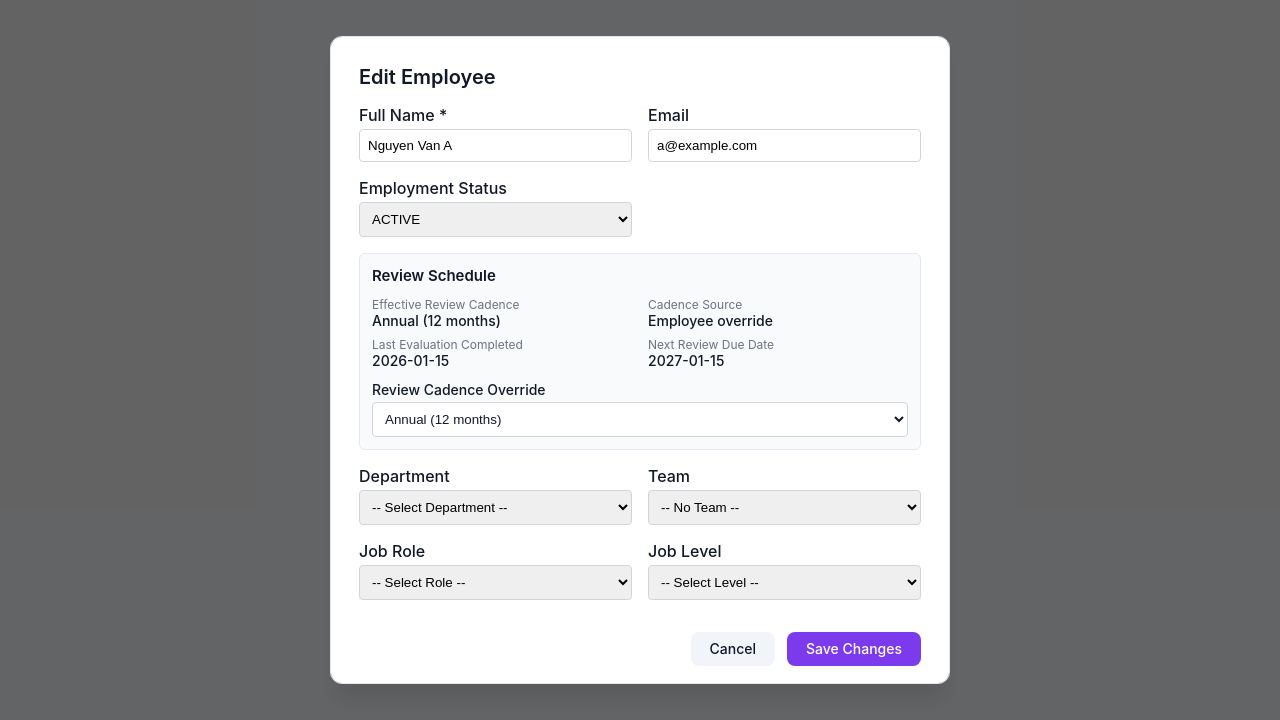
Employee review schedule (frontend) › TC64 job level change invalidates the affected keys and shows the new due date from the API without reload
This screenshot has width=1280, height=720.
Select "Senior" in the dropdown labelled "Job Level" at x=784, y=582, box [648,565,921,600]
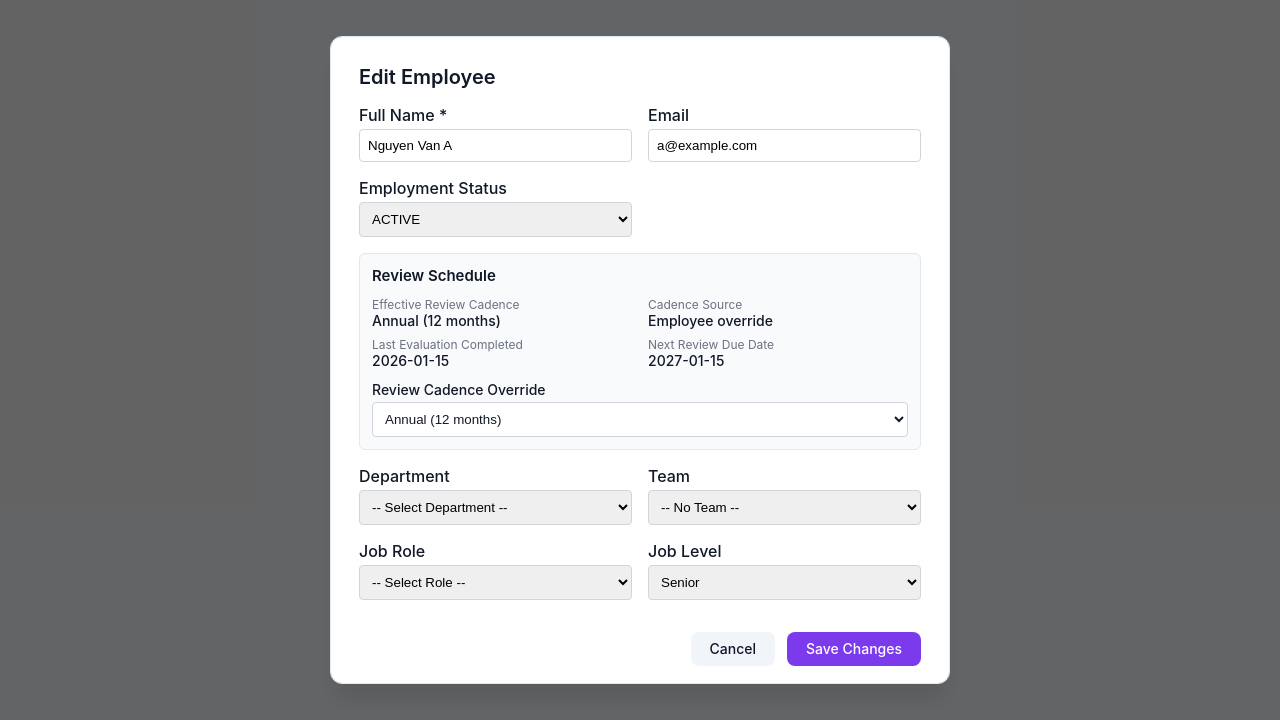
Click the button "Save Changes" at x=854, y=649, box [787,632,921,666]
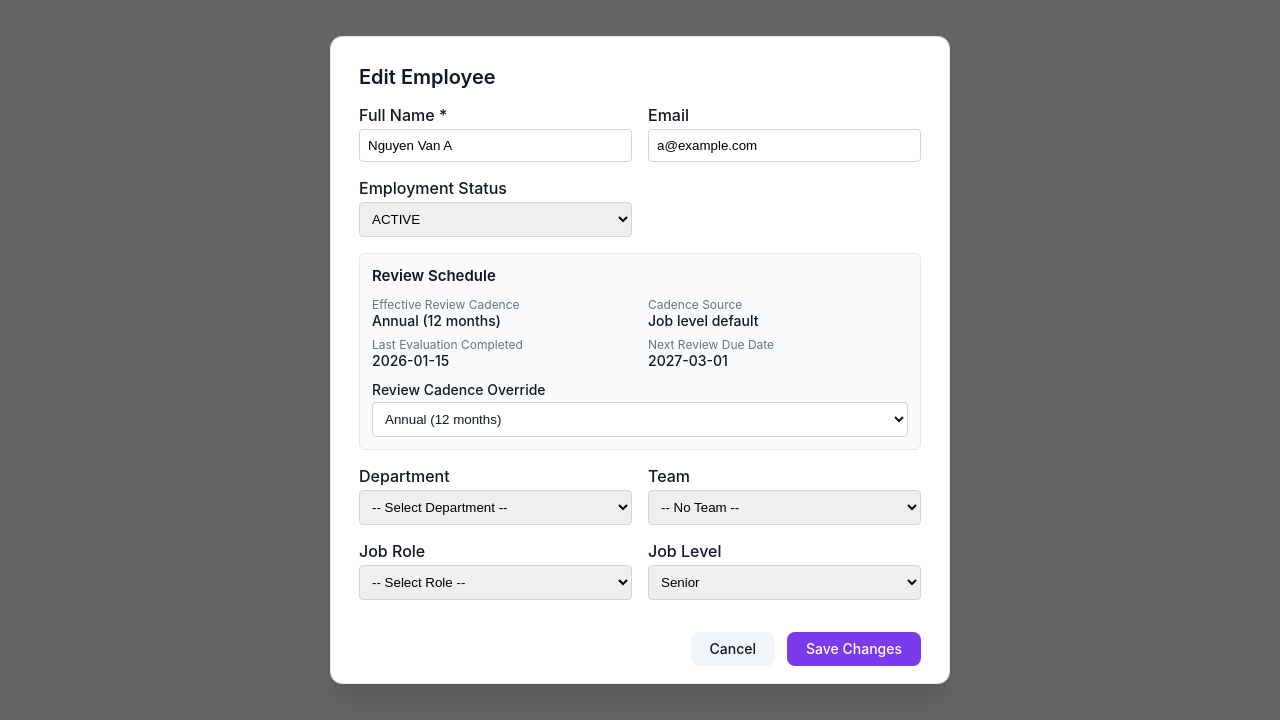
Expected: the text with test id "next-review-due-date-value" reads "2027-03-01", [648,352,728,369]
Expected: the text with test id "cadence-source-value" reads "Job level default", [648,312,758,329]
